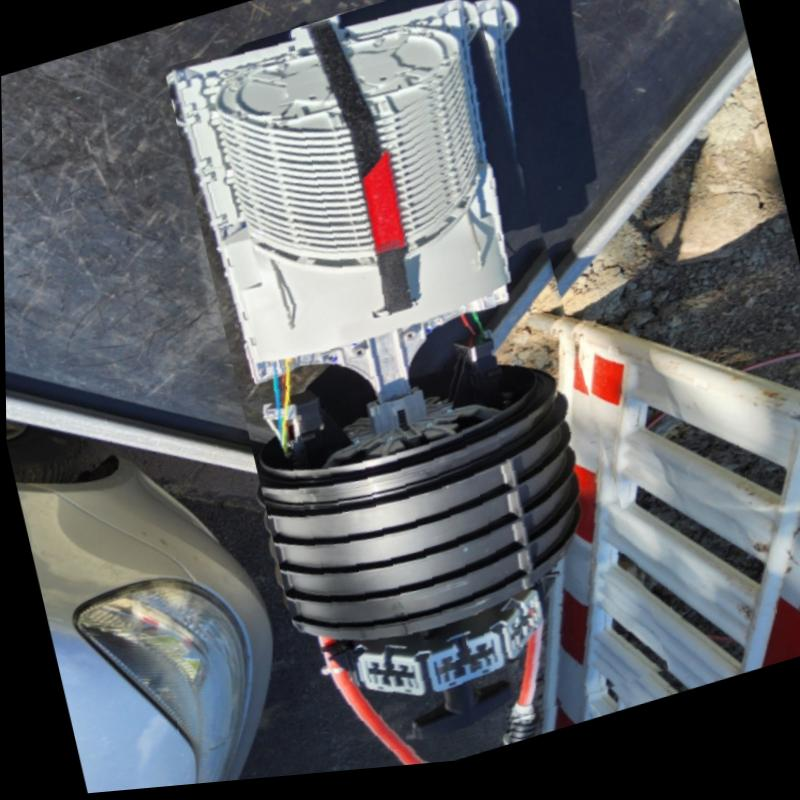NT-Muffen: (163, 0, 669, 789)
